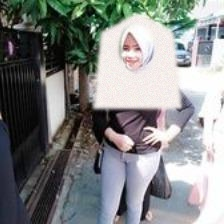Mukena: (92, 13, 182, 108)
